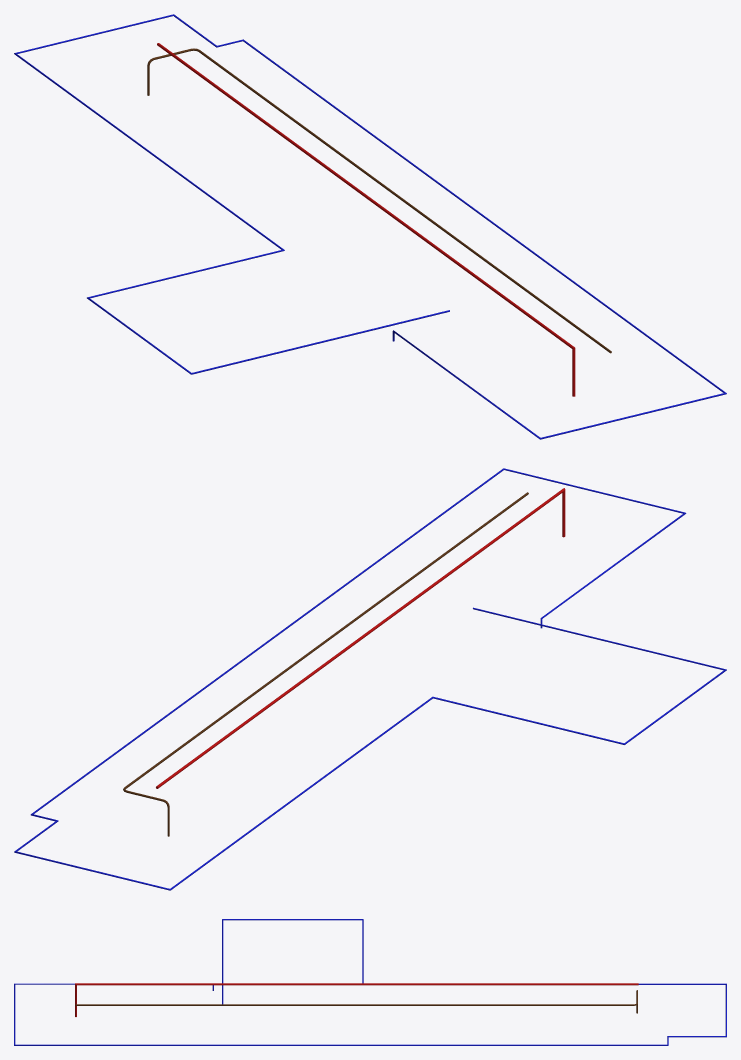
File: pipe_3.dae
3 renders of one model, top to bottom at view 1: azimuth 30°, elevation 25°; view 2: azimuth 150°, elevation 25°; view 3: azimuth 270°, elevation 25°, orthographic. The views are drawn at different scales.
Parts seen in each view (by area): view 1: __pipe_2, __pipe_3, __pipe_1; view 2: __pipe_2, __pipe_3, __pipe_1; view 3: __pipe_2, __pipe_3, __pipe_1.
Part boxes in pixels (bbox=[...]): __pipe_2: bbox=[14, 14, 726, 439]; __pipe_3: bbox=[157, 43, 575, 396]; __pipe_1: bbox=[147, 48, 611, 353]; __pipe_2: bbox=[14, 468, 726, 890]; __pipe_3: bbox=[156, 488, 565, 788]; __pipe_1: bbox=[123, 492, 528, 836]; __pipe_2: bbox=[14, 919, 726, 1045]; __pipe_3: bbox=[75, 983, 638, 1016]; __pipe_1: bbox=[75, 990, 637, 1013].
Size of the model in its own units: 36.51 by 87.15 by 4.48.
